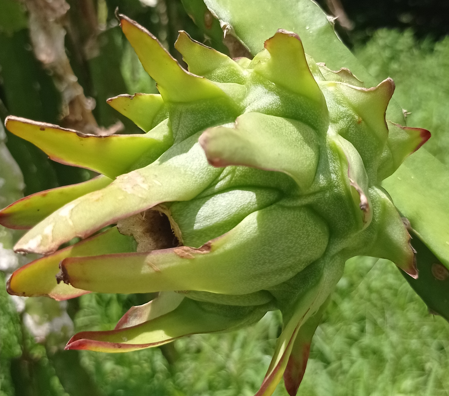Belum Matang: (79, 39, 406, 319)
